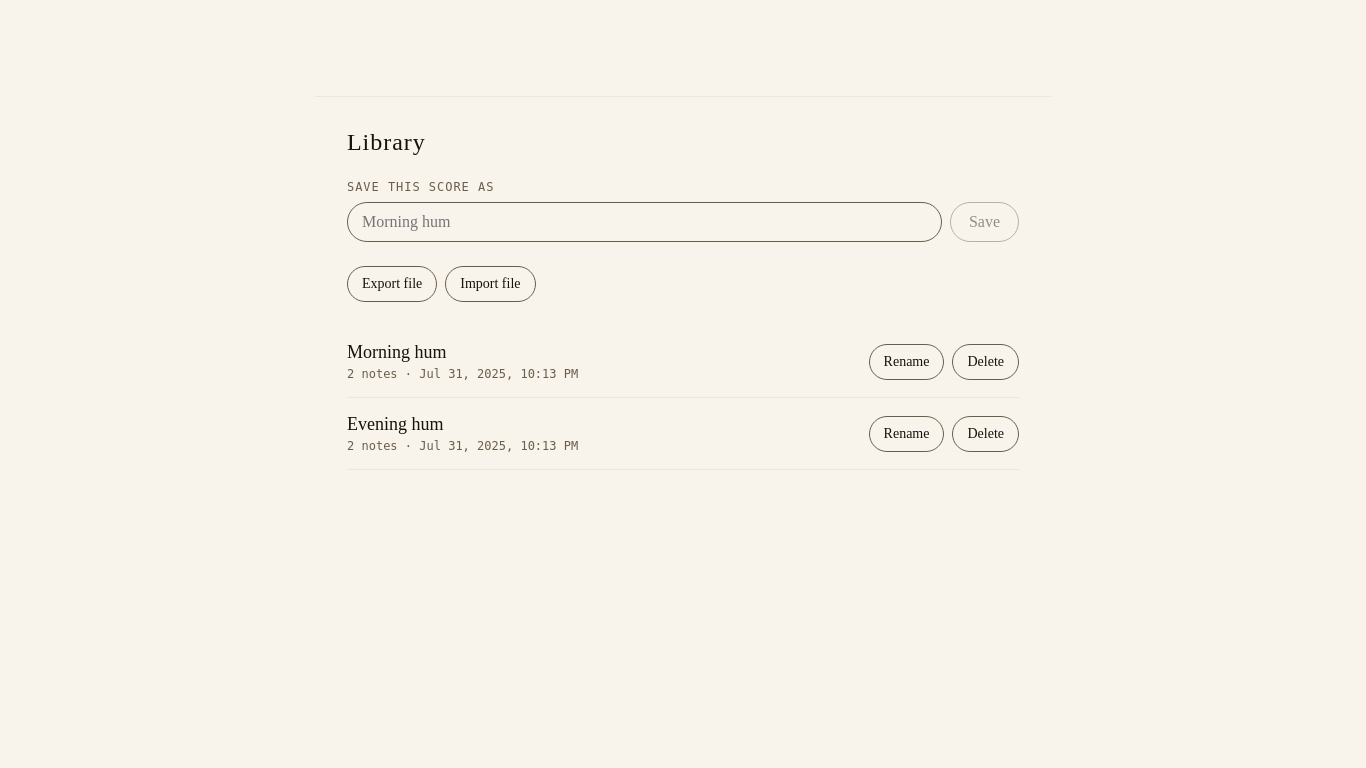
Test: LibraryPanel: deleting › confirms for the record you asked about, not another
Click the 2nd button "Delete" at x=986, y=434, box [952,416,1019,452]
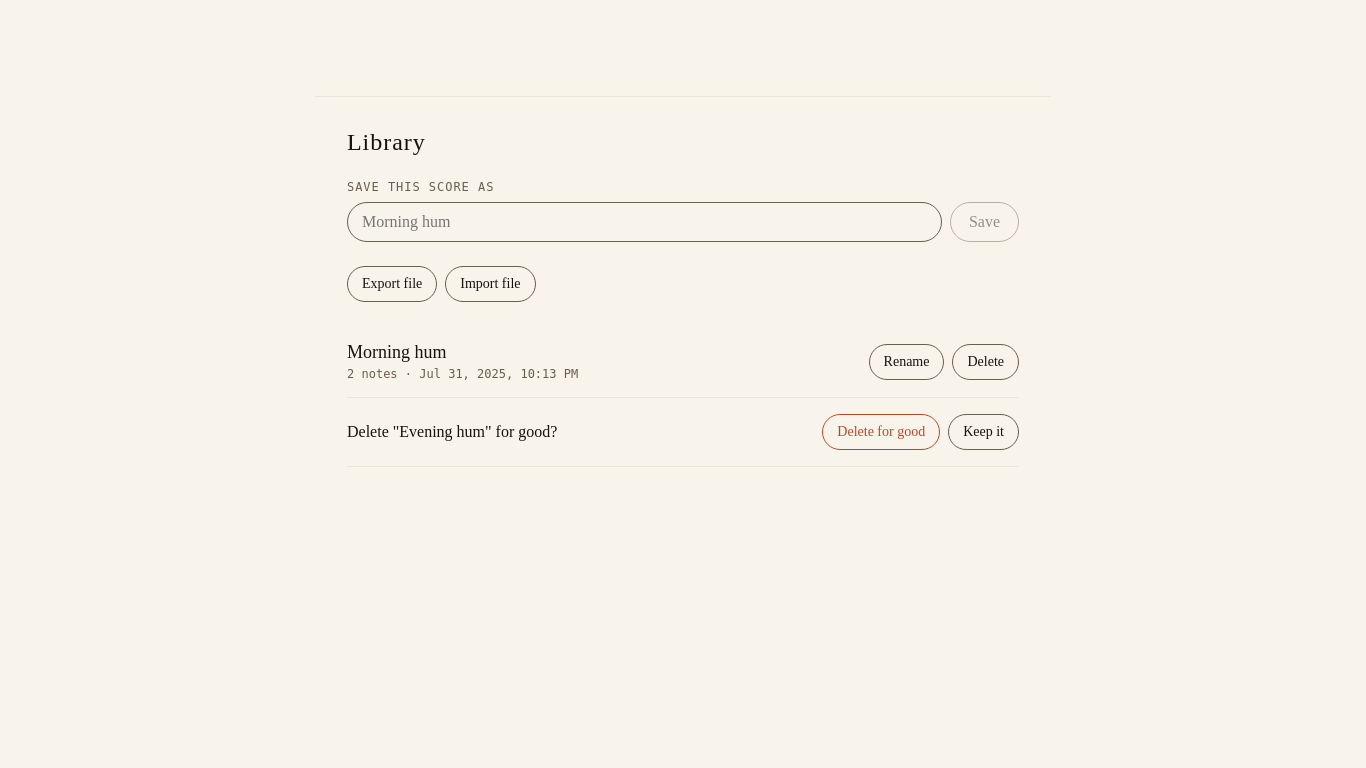
Now the text "Delete \"Evening hum\" for good?" is shown, box [347,423,557,441]
